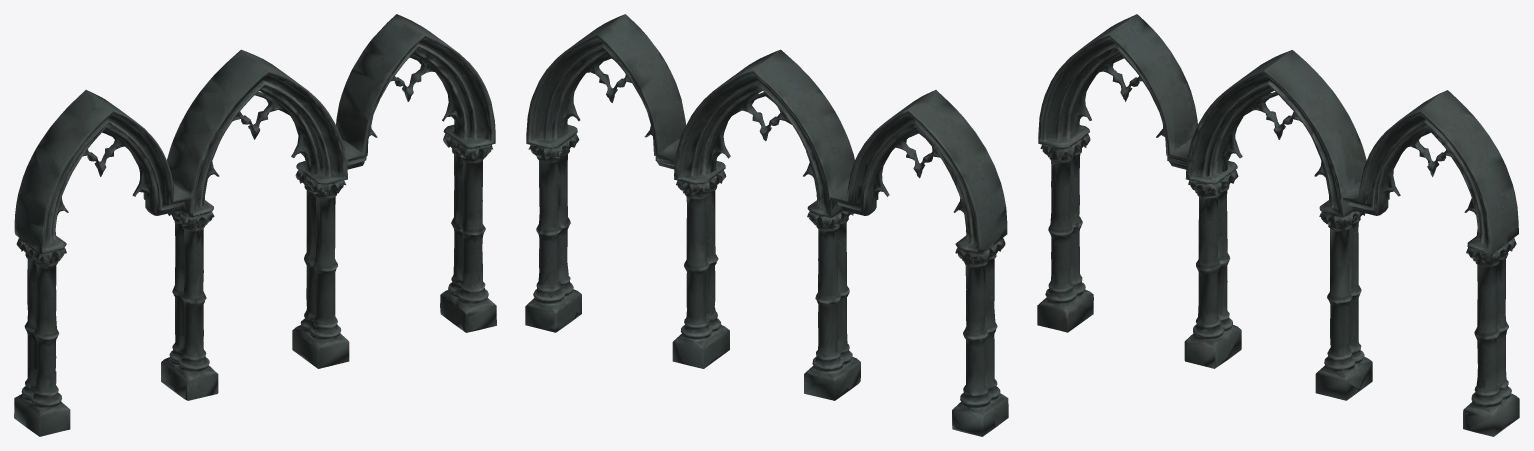
The model's file is cloister.glb.
The picture shows the model from 3 angles, left to right: view 1: azimuth 30°, elevation 25°; view 2: azimuth 150°, elevation 25°; view 3: azimuth 330°, elevation 25°; orthographic projection.
Bounding box in the file's own units: 1.9 × 1.24 × 0.2034.
Materials: 1 (1 with a texture image).
